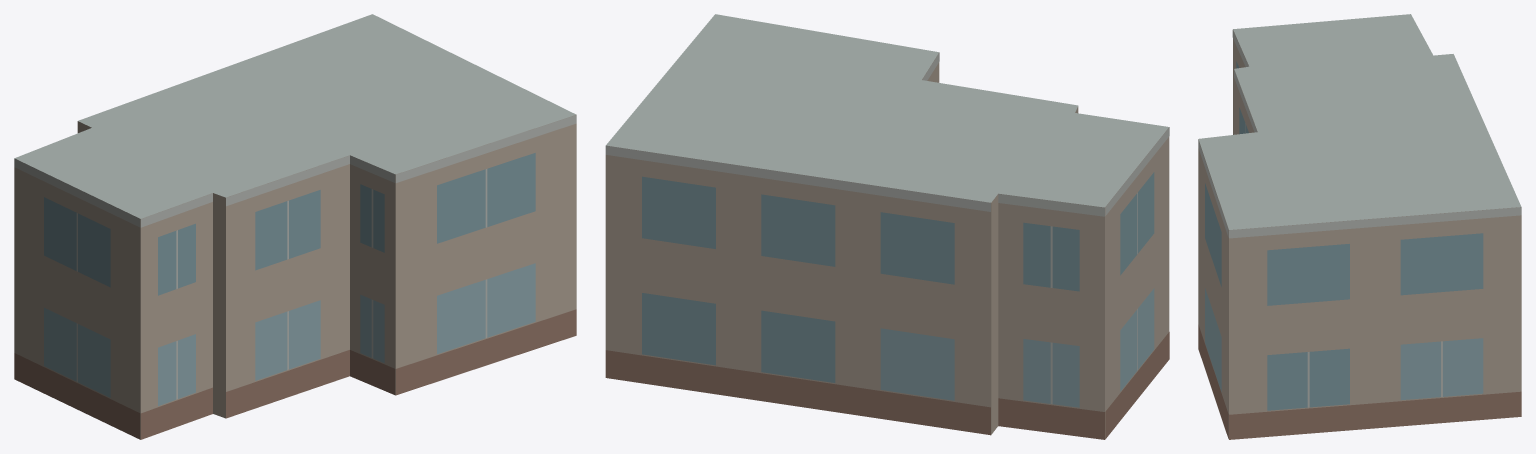
The model's file is survey-upis-32683685.glb.
3 renders of one model, left to right at view 1: azimuth 30°, elevation 25°; view 2: azimuth 150°, elevation 25°; view 3: azimuth 270°, elevation 25°, orthographic. The views are drawn at different scales.
Parts seen in each view (by area): view 1: survey-upis-32683685.tmp; view 2: survey-upis-32683685.tmp; view 3: survey-upis-32683685.tmp.
Part boxes in pixels (x1,y1,x2,y2): survey-upis-32683685.tmp: (14, 14, 576, 439); survey-upis-32683685.tmp: (605, 14, 1169, 439); survey-upis-32683685.tmp: (1198, 14, 1521, 439).
Bounding box in the file's own units: 13.49 × 6.1 × 8.53.
